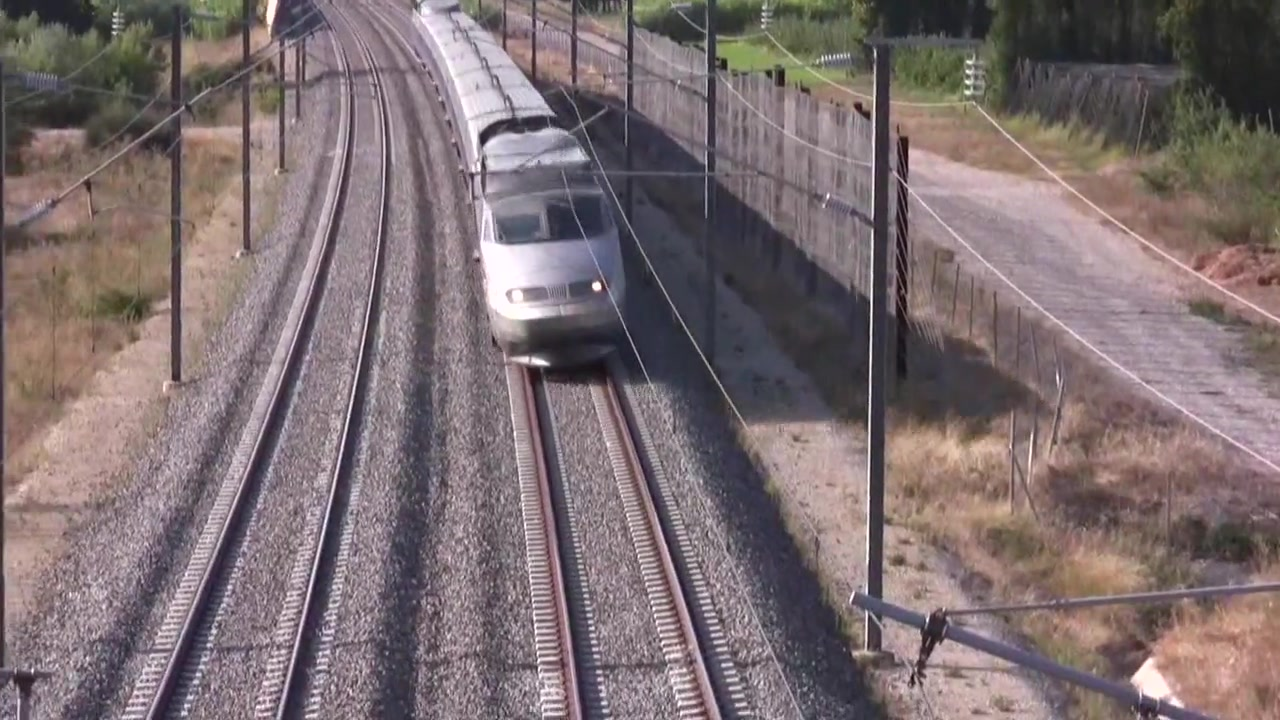train: (406, 1, 632, 375)
